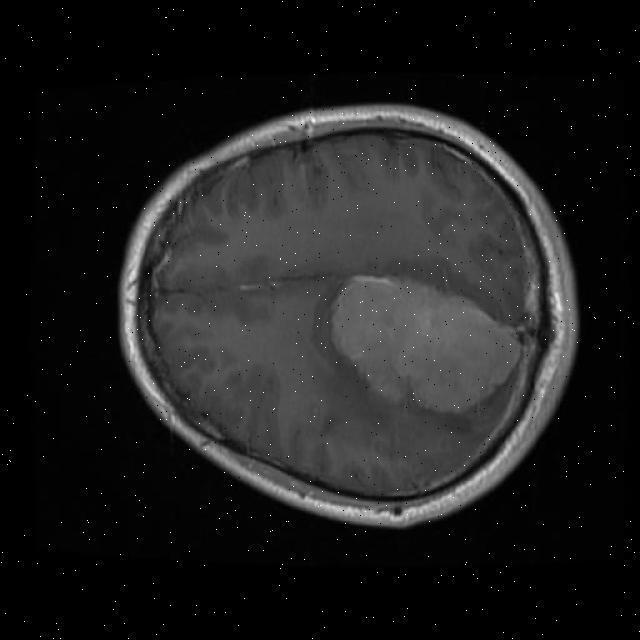Meningioma: (331, 276, 522, 414)
